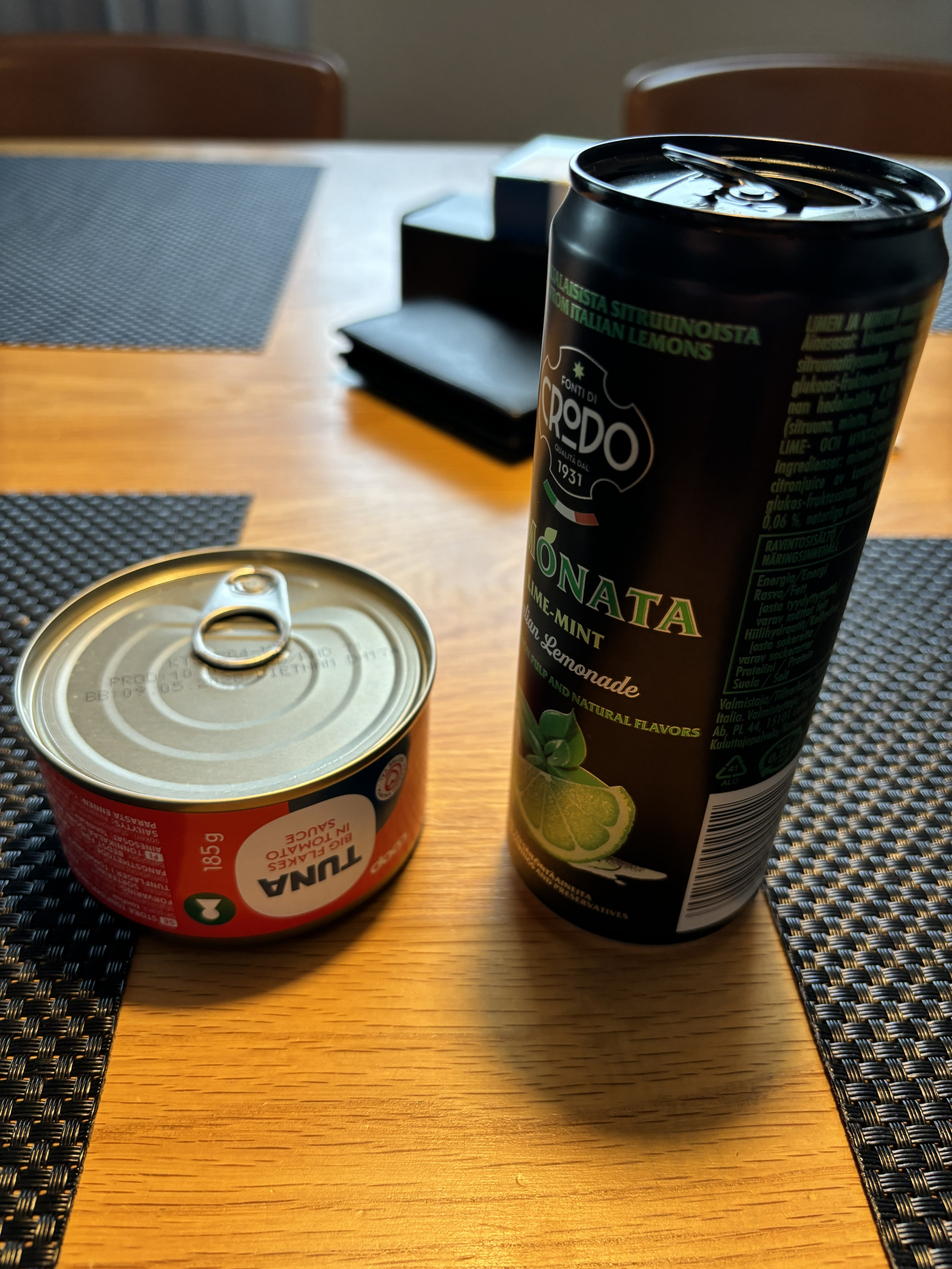Konservburk: (15, 541, 441, 952)
Pantburk: (501, 130, 952, 965)
